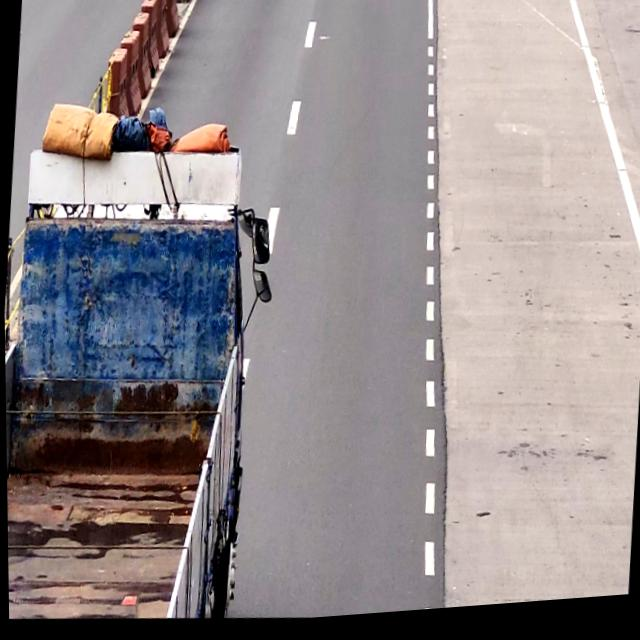Truck: (1, 90, 268, 634)
